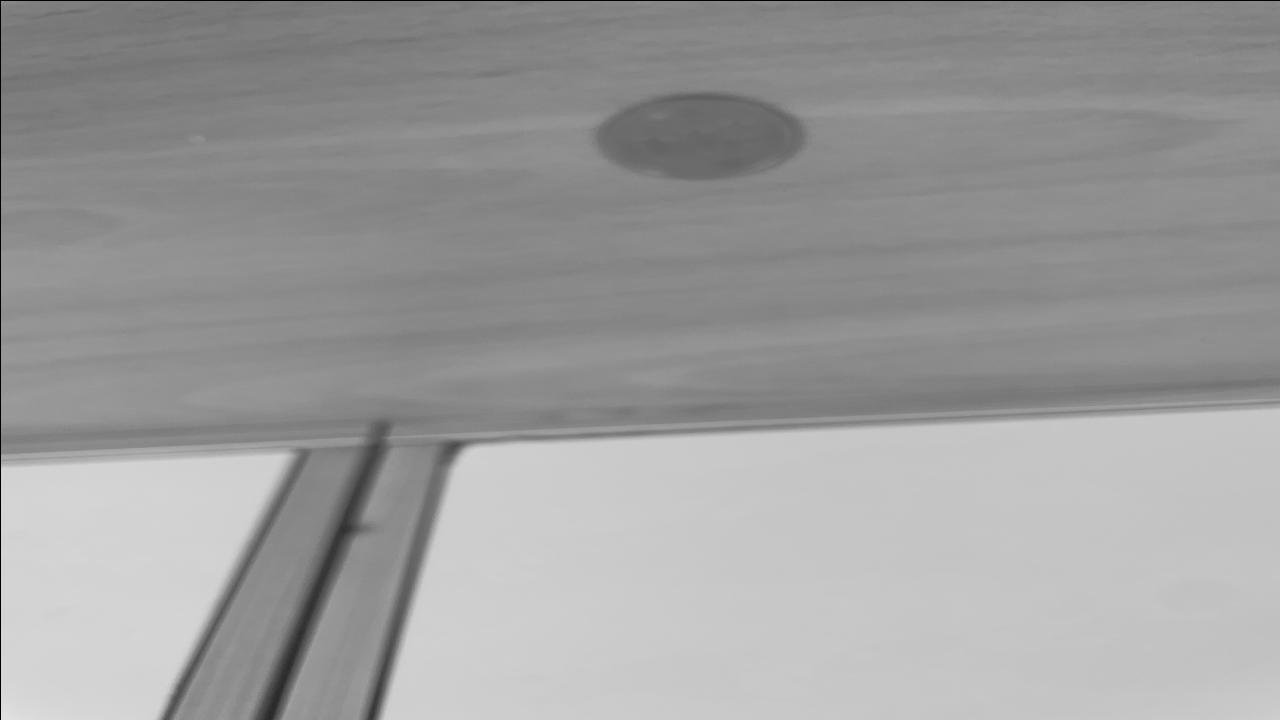coin: (592, 94, 806, 182)
